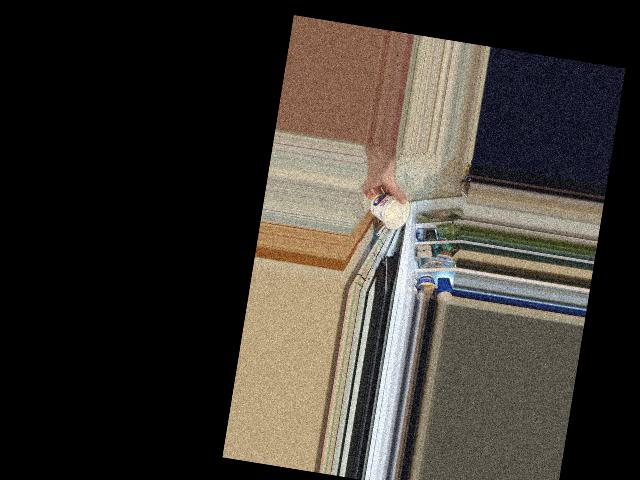cotage: (368, 192, 409, 235)
